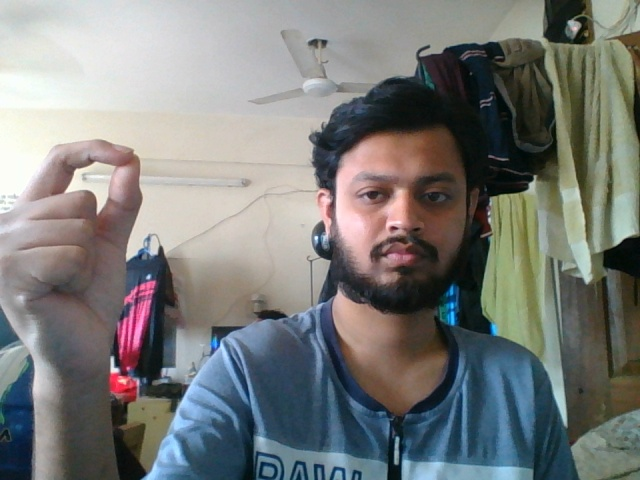gha: (1, 131, 150, 441)
